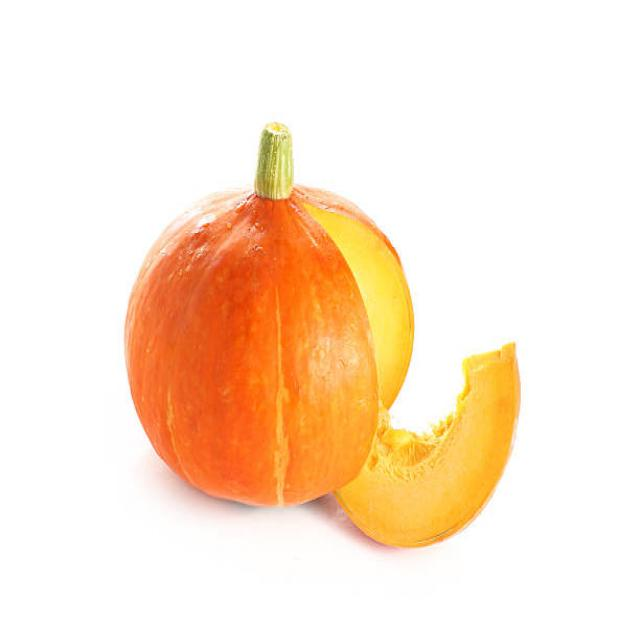Pumpkin: (117, 174, 392, 506), (385, 338, 528, 562)
